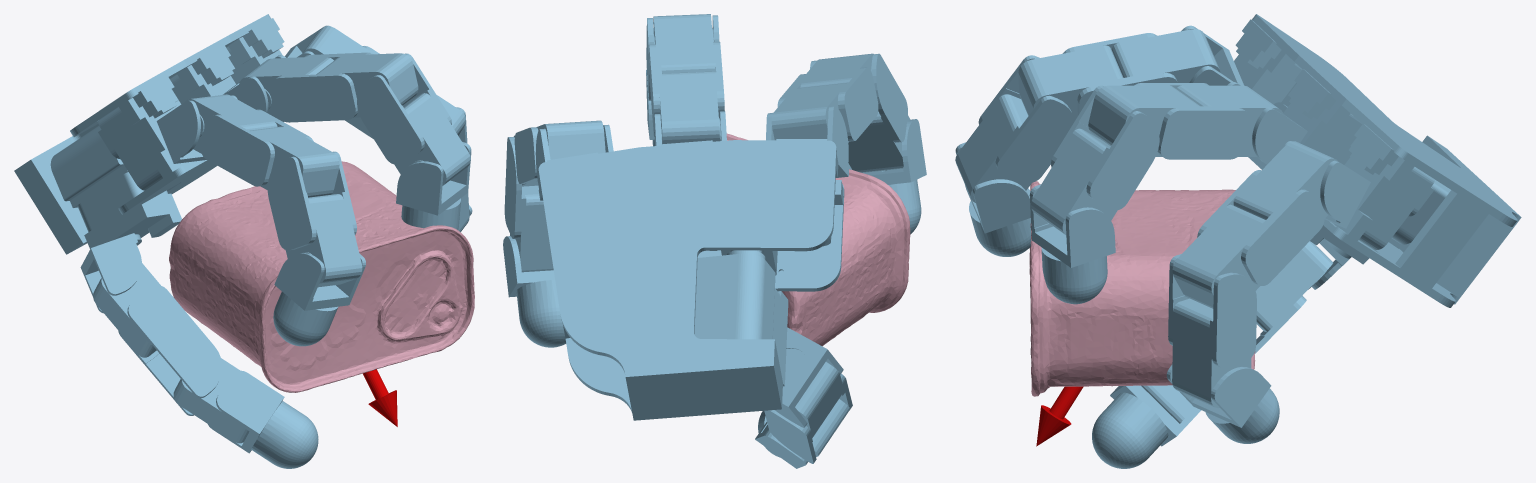
3 renders of one model, left to right at view 1: azimuth 30°, elevation 25°; view 2: azimuth 150°, elevation 25°; view 3: azimuth 270°, elevation 25°, orthographic. The views are drawn at different scales.
Parts seen in each view (by area): view 1: world, potted_meat_can.stl; view 2: world, potted_meat_can.stl; view 3: world, potted_meat_can.stl.
Part boxes in pixels (x1=…): world: x1=14, y1=14, x2=472, y2=468; potted_meat_can.stl: x1=169, y1=161, x2=474, y2=392; world: x1=503, y1=14, x2=926, y2=468; potted_meat_can.stl: x1=726, y1=133, x2=910, y2=346; world: x1=955, y1=14, x2=1521, y2=468; potted_meat_can.stl: x1=1029, y1=181, x2=1255, y2=396.
Bounding box in the file's own units: 0.1684 × 0.173 × 0.2095.
